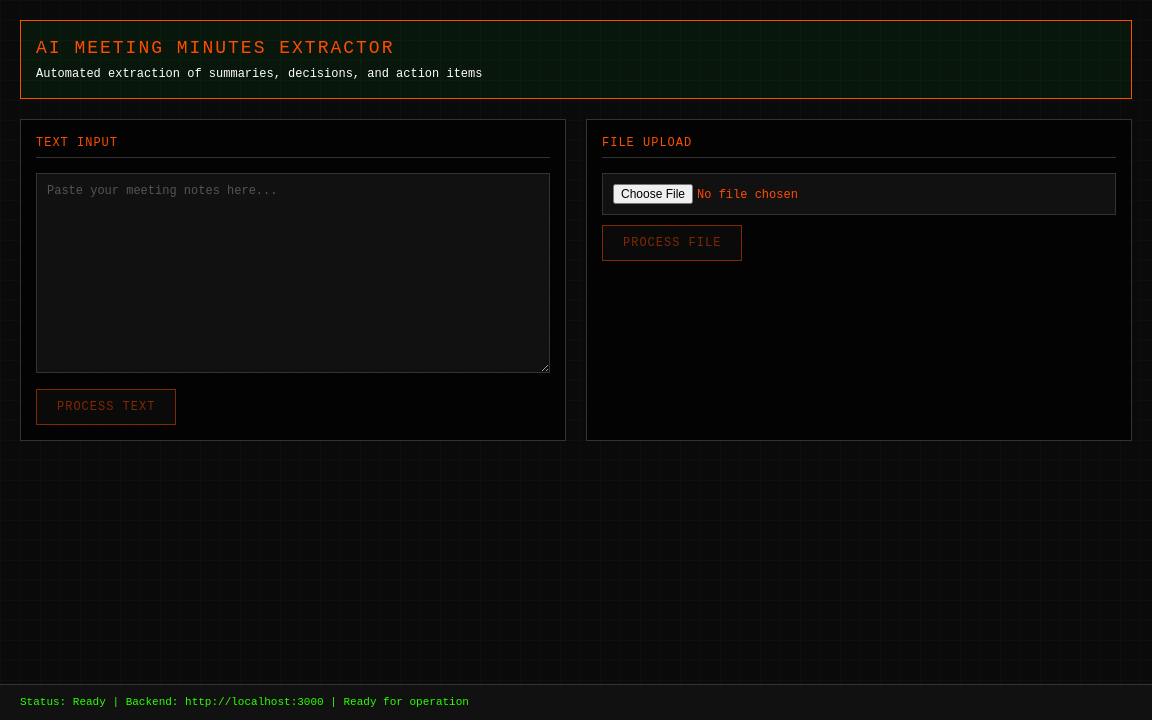
Test: App Component › Clear Functionality › clears all data when clear button is clicked
Note: Add text and process
Type "Test meeting notes" into the text box with placeholder "Paste your meeting notes here..." at [293, 273], box [36, 173, 550, 373]
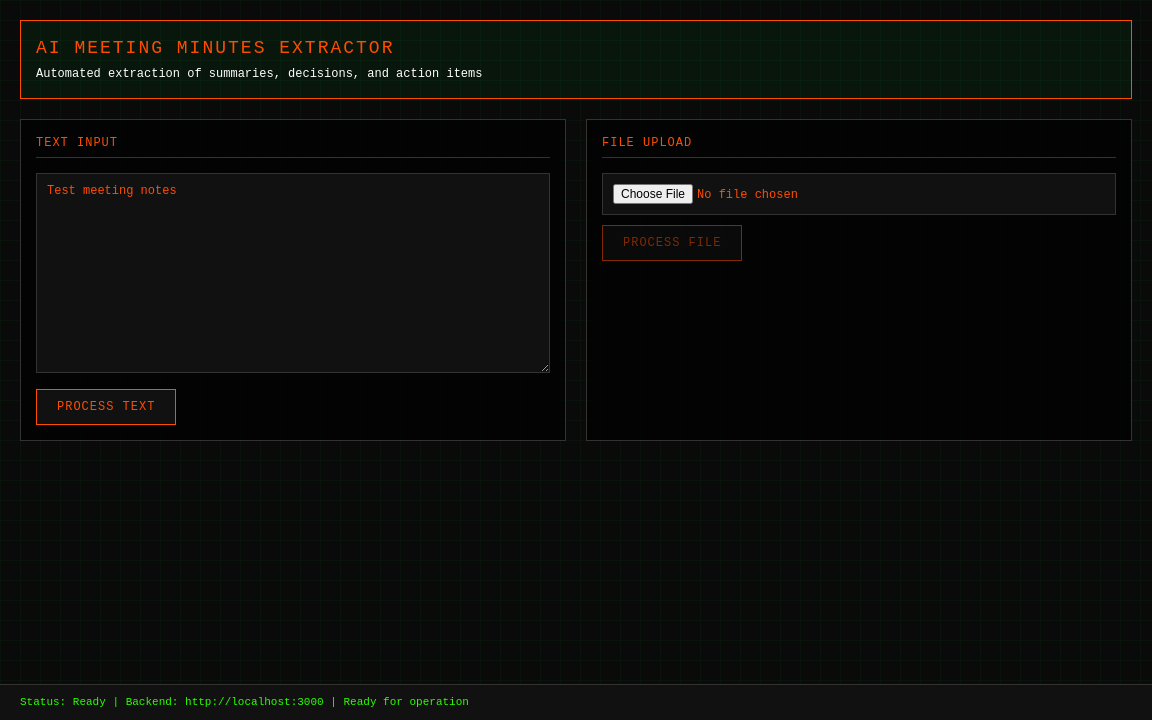
Click the button "Process Text" at [106, 407], box [36, 389, 176, 425]
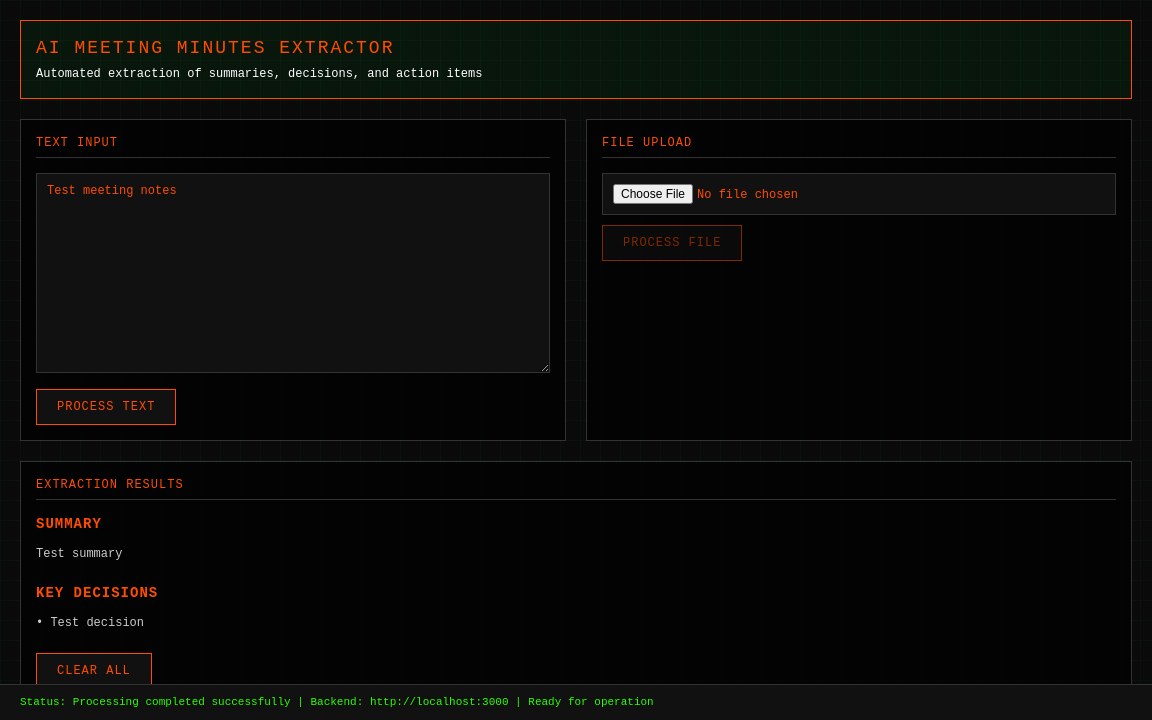
Expected: the text "Test summary" is shown, [36, 547, 122, 561]
Note: Click clear button
Click the button "Clear All" at [94, 671], box [36, 653, 152, 689]
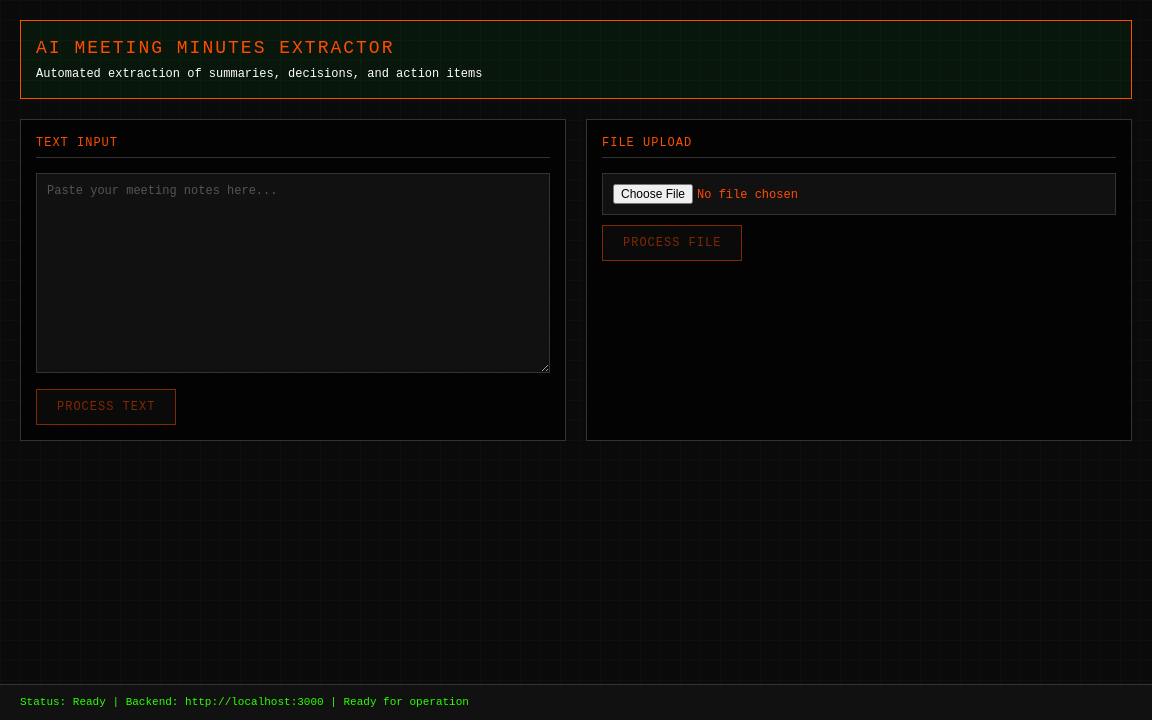
Expected: the text box with placeholder "Paste your meeting notes here..." is empty, [36, 173, 550, 373]
Expected: the text "Test summary" is gone
Expected: the text "Status: Ready" is shown, [0, 684, 1151, 719]
